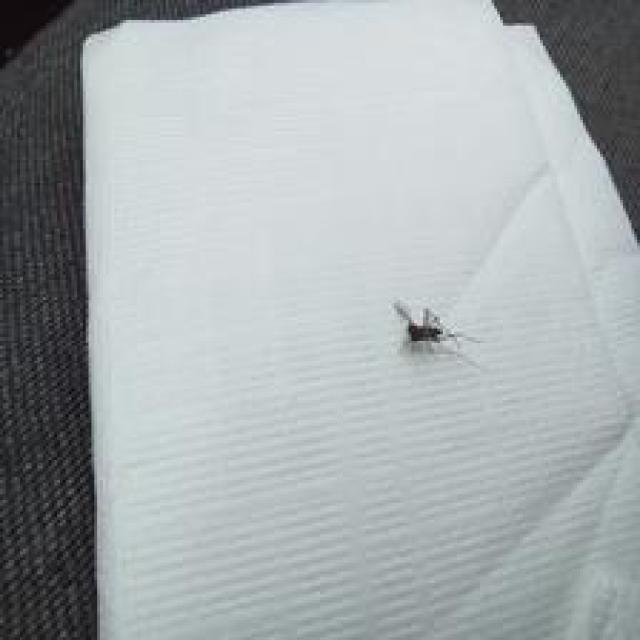Aedes albopictus: (390, 297, 479, 354)
